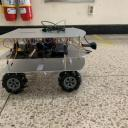cart: (0, 27, 92, 94)
